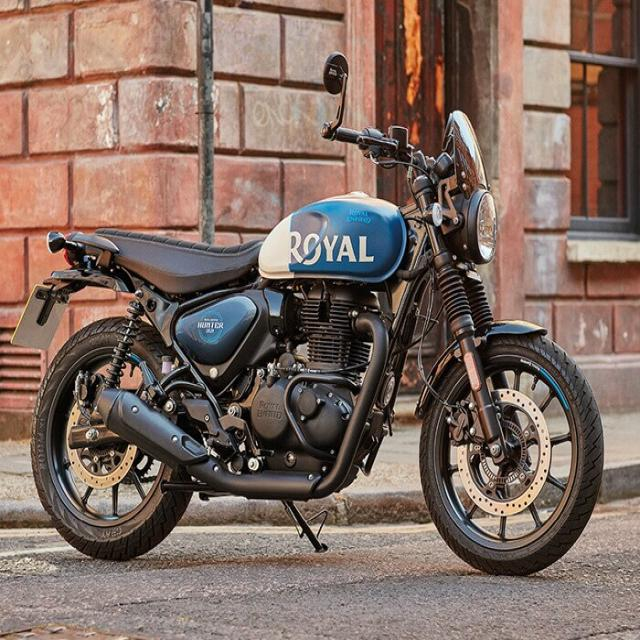motorcycle: (12, 53, 602, 575)
